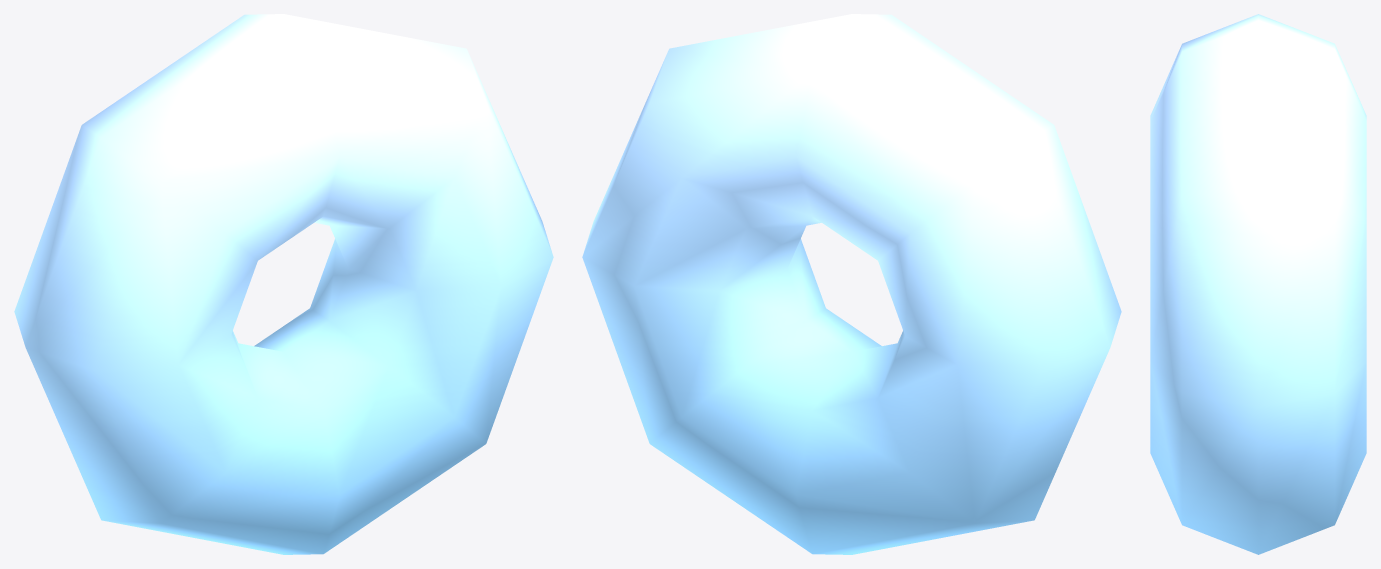
File: steel_pommel_016.glb
3 renders of one model, left to right at view 1: azimuth 30°, elevation 25°; view 2: azimuth 150°, elevation 25°; view 3: azimuth 270°, elevation 25°, orthographic. The views are drawn at different scales.
Visible parts, largest first — view 1: steel_pommel_016; view 2: steel_pommel_016; view 3: steel_pommel_016.
Boxes of the visible parts, x1=… form: steel_pommel_016: x1=14, y1=14, x2=553, y2=554; steel_pommel_016: x1=582, y1=14, x2=1121, y2=554; steel_pommel_016: x1=1150, y1=14, x2=1366, y2=554.
Bounding box in the file's own units: 2.31 × 2.31 × 0.8663.
Materials: 1 (1 with a texture image).
